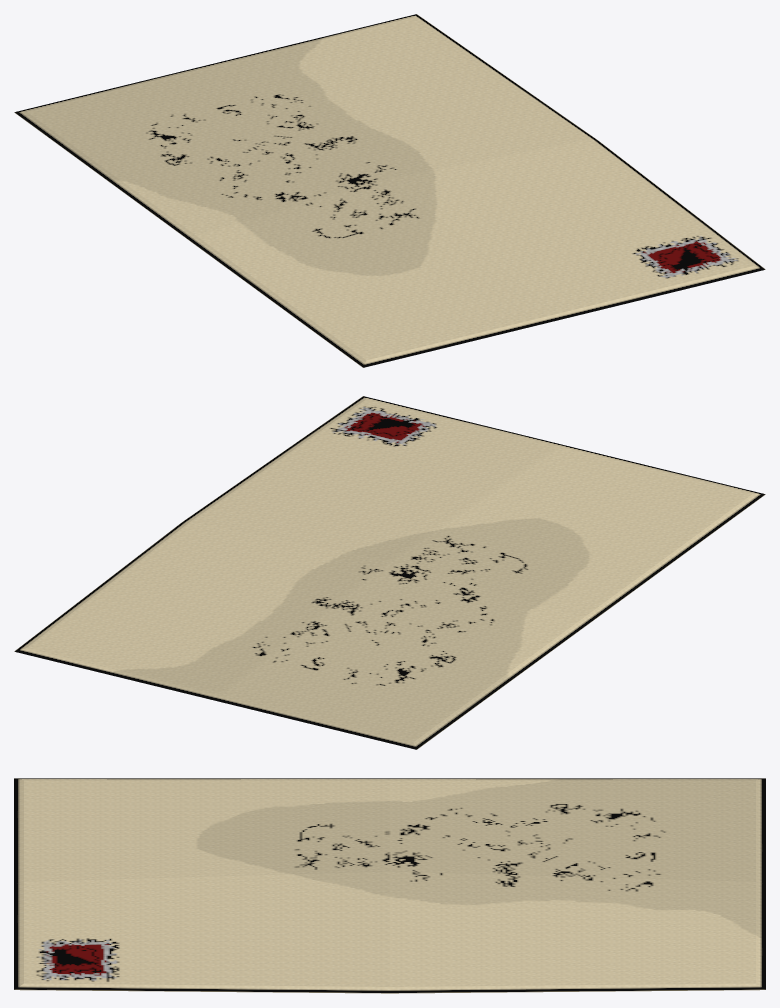
File: lettermomento.fbx
3 renders of one model, top to bottom at view 1: azimuth 30°, elevation 25°; view 2: azimuth 150°, elevation 25°; view 3: azimuth 270°, elevation 25°, orthographic. The views are drawn at different scales.
Parts seen in each view (by area): view 1: LetterMomento; view 2: LetterMomento; view 3: LetterMomento.
Boxes of the visible parts, x1,y1,x2,y2 form: LetterMomento: (14, 14, 765, 367); LetterMomento: (14, 396, 765, 749); LetterMomento: (14, 778, 765, 993).
Size of the model in its own units: 30.01 by 1.38 by 44.33.
